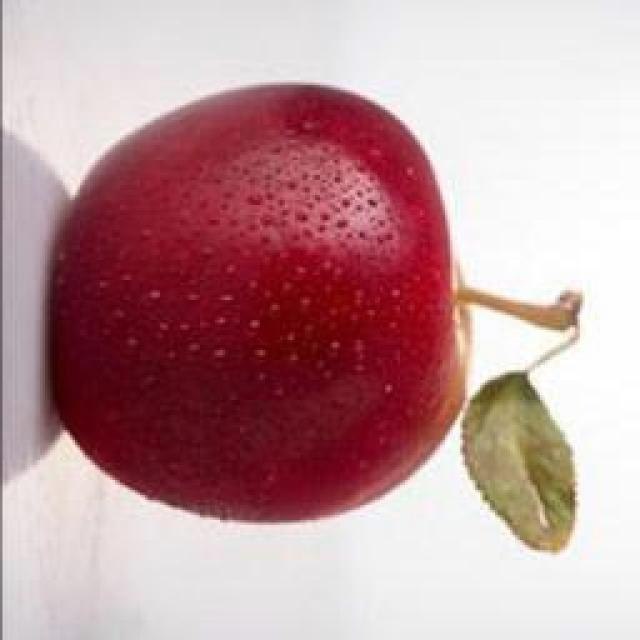Apple: (52, 84, 464, 521)
